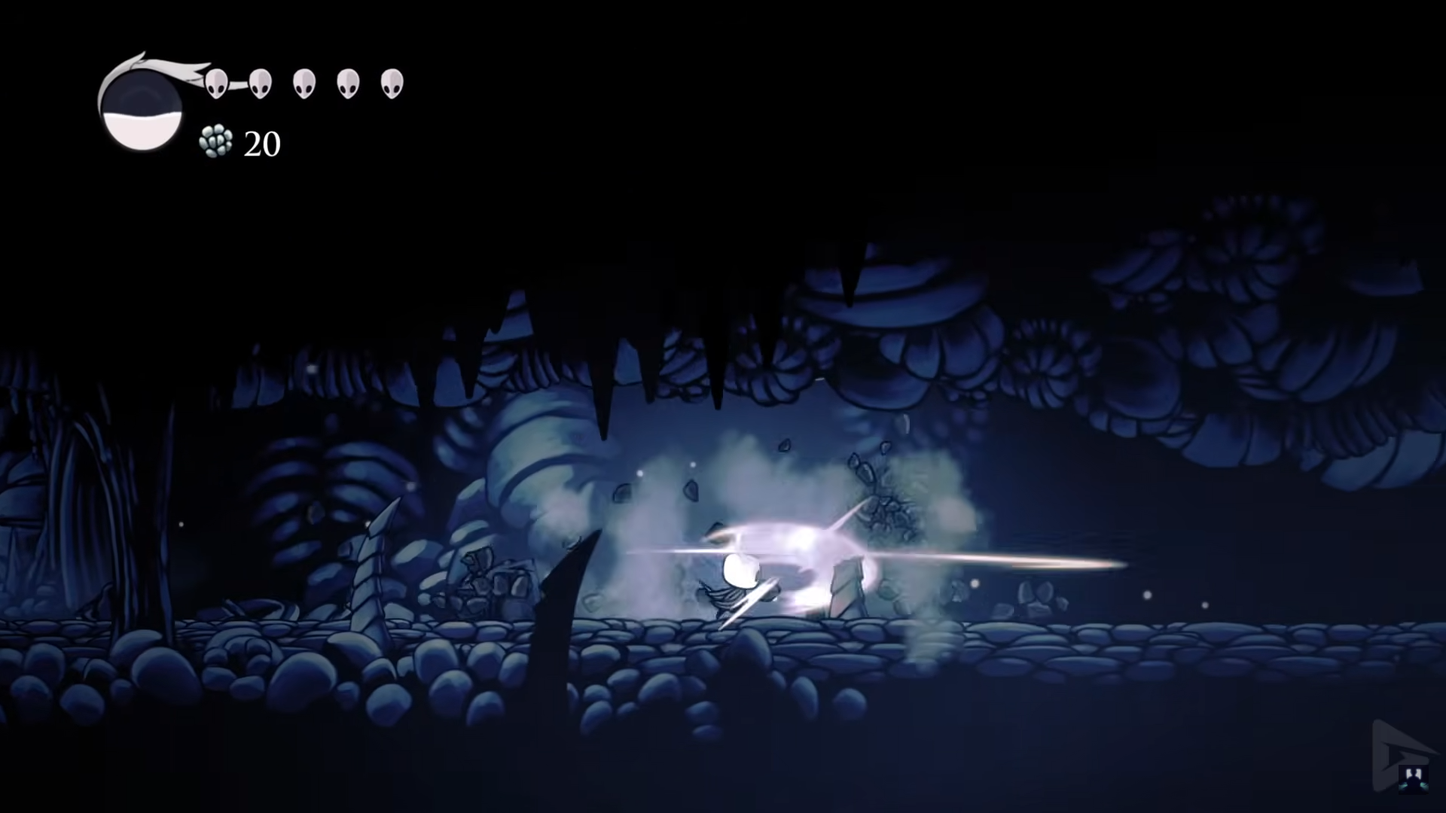HK: (692, 533, 777, 625)
